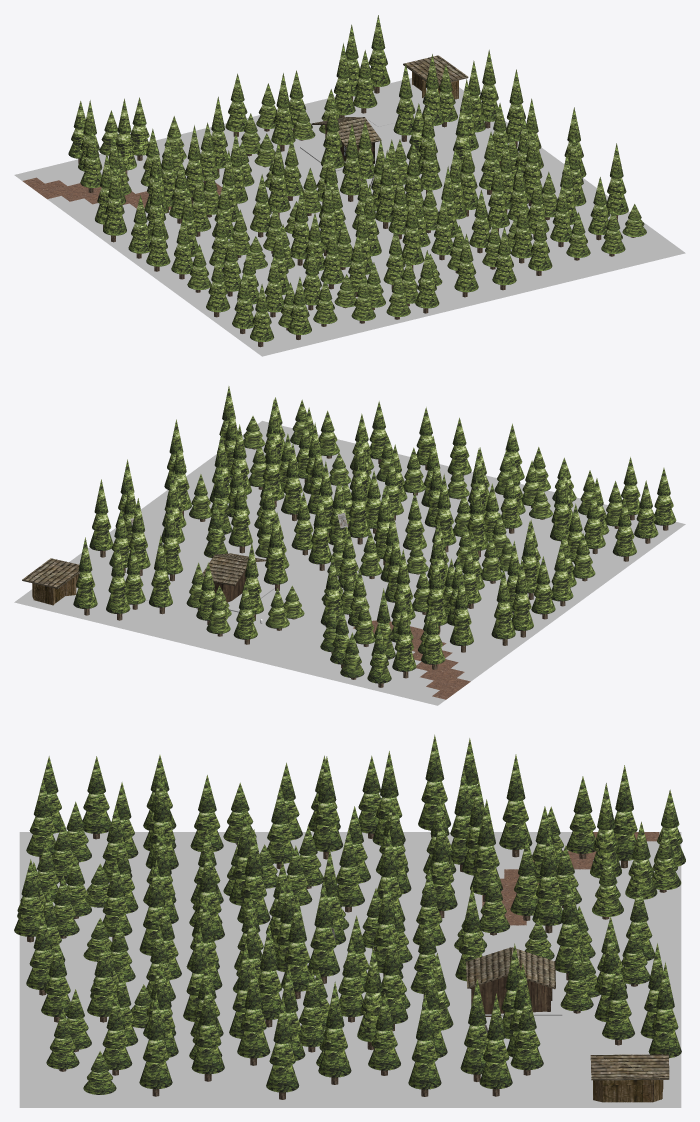
The model's file is modelled maya map.fbx.
3 renders of one model, top to bottom at view 1: azimuth 30°, elevation 25°; view 2: azimuth 150°, elevation 25°; view 3: azimuth 270°, elevation 25°, orthographic. The views are drawn at different scales.
Parts seen in each view (by area): view 1: Plane6, Plane8, Plane7, Plane3, Plane2, Plane4, Plane, Plane5, Plane1, pCone148, pCone9, pCone18 (+99 smaller); view 2: Plane3, Plane, Plane4, Plane8, Plane5, Plane1, Plane2, Plane6, Plane7, pCube59, pCone145, pCone64 (+84 smaller); view 3: Plane6, Plane5, Plane4, Plane7, Plane8, Plane3, Plane, Plane2, Plane1, pCube59, pCone127, pCone61 (+117 smaller).
Part boxes in pixels (x1,y1,x2,y2): Plane6: [460, 194, 685, 286]; Plane8: [179, 266, 404, 356]; Plane7: [341, 228, 548, 321]; Plane3: [14, 140, 222, 235]; Plane2: [97, 203, 305, 295]; Plane4: [304, 78, 508, 165]; Plane: [158, 109, 375, 198]; Plane5: [403, 140, 596, 226]; Plane1: [244, 175, 466, 259]; pCone148: [103, 164, 126, 242]; pCone9: [271, 73, 295, 151]; pCone18: [340, 123, 361, 201]; Plane3: [294, 610, 520, 705]; Plane: [151, 581, 376, 670]; Plane4: [14, 547, 205, 637]; Plane8: [481, 490, 685, 584]; Plane5: [109, 483, 315, 568]; Plane1: [256, 516, 458, 609]; Plane2: [377, 552, 602, 644]; Plane6: [186, 421, 404, 505]; Plane7: [351, 454, 524, 549]; pCube59: [22, 558, 79, 588]; pCone145: [491, 567, 515, 645]; pCone64: [228, 475, 252, 553]; Plane6: [19, 1014, 240, 1107]; Plane5: [240, 1014, 460, 1107]; Plane4: [460, 1014, 681, 1107]; Plane7: [19, 925, 240, 1017]; Plane8: [19, 832, 240, 925]; Plane3: [460, 832, 681, 925]; Plane: [460, 925, 681, 1018]; Plane2: [240, 832, 460, 925]; Plane1: [240, 925, 460, 1018]; pCube59: [590, 1054, 669, 1080]; pCone127: [479, 993, 512, 1096]; pCone61: [139, 993, 172, 1096].
Bounding box in the file's own units: 12869 × 2627 × 13190.
